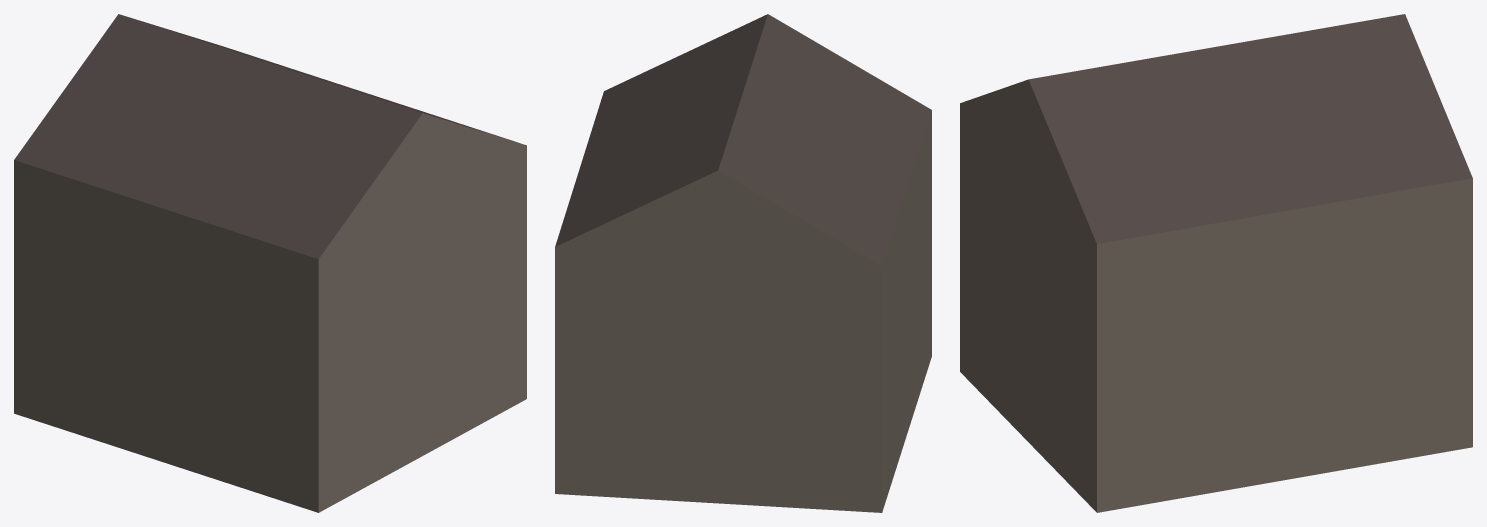
3 views of the same model, side by side, from view 1: azimuth 30°, elevation 25°; view 2: azimuth 150°, elevation 25°; view 3: azimuth 270°, elevation 25° (orthographic). The views are drawn at different scales.
Parts seen in each view (by area): view 1: HP-w776801028; view 2: HP-w776801028; view 3: HP-w776801028.
Boxes of the visible parts, x1,y1,x2,y2 form: HP-w776801028: (14, 14, 526, 512); HP-w776801028: (555, 14, 931, 512); HP-w776801028: (960, 14, 1472, 512).
Bounding box in the file's own units: 9.89 × 8.11 × 10.38.
